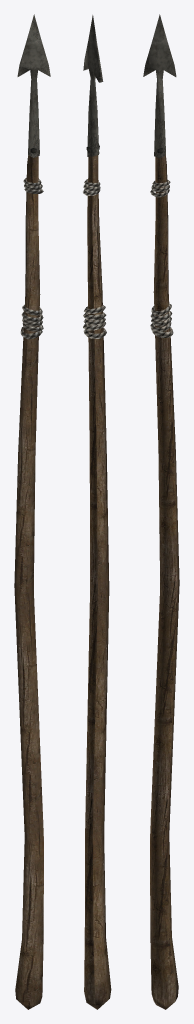
The model's file is hunter_spear.obj.
3 views of the same model, side by side, from view 1: azimuth 90°, elevation 25°; view 2: azimuth 210°, elevation 25°; view 3: azimuth 270°, elevation 25° (orthographic).
Visible parts, largest first — view 1: hunter_spear; view 2: hunter_spear; view 3: hunter_spear.
Boxes of the visible parts, x1,y1,x2,y2 form: hunter_spear: [14, 14, 50, 1009]; hunter_spear: [83, 15, 111, 1009]; hunter_spear: [143, 14, 179, 1009].
Bounding box in the file's own units: 2.5 × 102 × 3.34.
